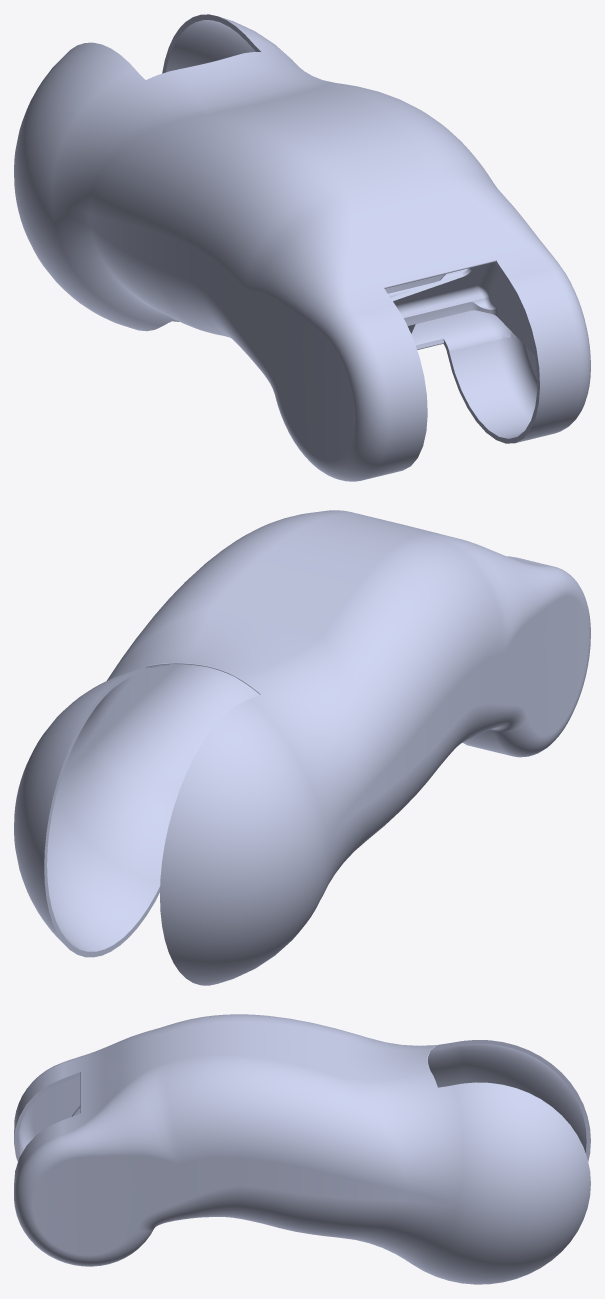
Rendered from thigh.dae.
3 views of the same model, one above another, from view 1: azimuth 30°, elevation 25°; view 2: azimuth 150°, elevation 25°; view 3: azimuth 270°, elevation 25° (orthographic). The views are drawn at different scales.
Parts seen in each view (by area): view 1: _3DGeom_330, _3DGeom_329; view 2: _3DGeom_330; view 3: _3DGeom_330.
Part boxes in pixels (x1,y1,x2,y2): _3DGeom_330: (14, 14, 590, 481); _3DGeom_329: (388, 262, 535, 355); _3DGeom_330: (14, 510, 590, 985); _3DGeom_330: (14, 1014, 590, 1284).
Size of the model in its own units: 0.25 by 0.5889 by 0.2533.
